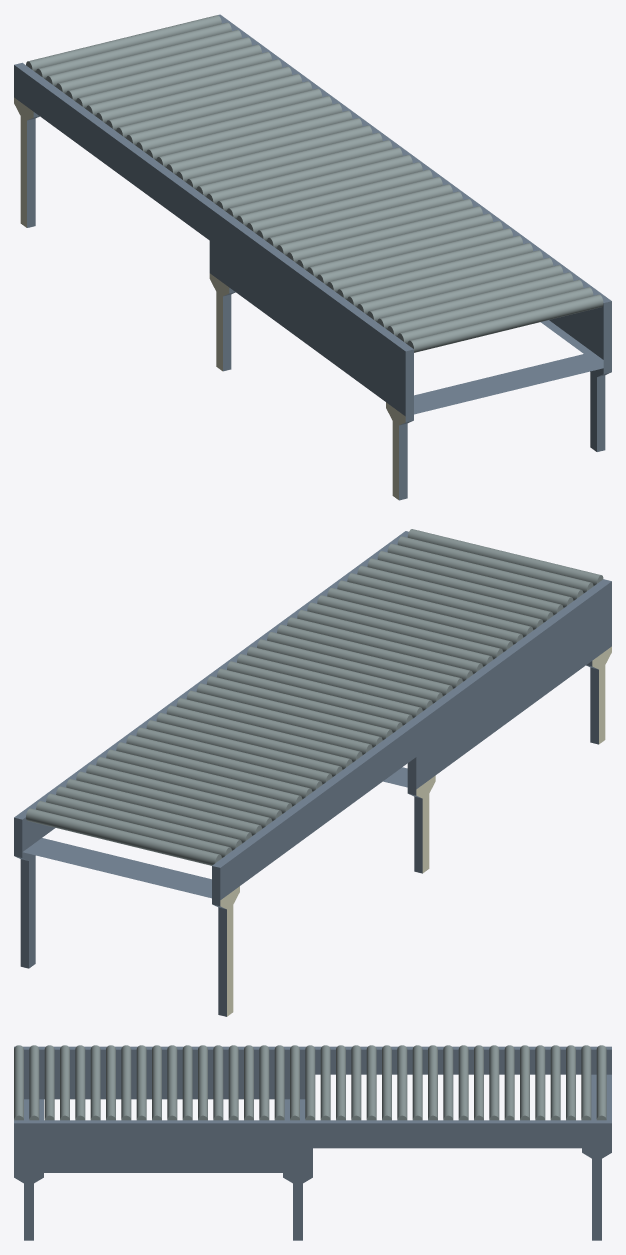
File: Roller_Conveyor2.obj
The picture shows the model from 3 angles, top to bottom: view 1: azimuth 30°, elevation 25°; view 2: azimuth 150°, elevation 25°; view 3: azimuth 270°, elevation 25°; orthographic projection. The views are drawn at different scales.
Visible parts, largest first — view 1: Mesh40 Model, Mesh1 Roller1 Model, Mesh25 Roller25 Model, Mesh36 Roller36 Model, Mesh4 Roller4 Model, Mesh5 Roller5 Model, Mesh7 Roller7 Model, Mesh10 Roller10 Model, Mesh13 Roller13 Model, Mesh23 Roller23 Model, Mesh27 Roller27 Model, Mesh29 Roller29 Model (+28 smaller); view 2: Mesh40 Model, Mesh39 Roller39 Model, Mesh6 Roller6 Model, Mesh16 Roller16 Model, Mesh22 Roller22 Model, Mesh1 Roller1 Model, Mesh4 Roller4 Model, Mesh24 Roller24 Model, Mesh27 Roller27 Model, Mesh28 Roller28 Model, Mesh29 Roller29 Model, Mesh31 Roller31 Model (+28 smaller); view 3: Mesh40 Model, Mesh2 Roller2 Model, Mesh3 Roller3 Model, Mesh5 Roller5 Model, Mesh6 Roller6 Model, Mesh8 Roller8 Model, Mesh9 Roller9 Model, Mesh11 Roller11 Model, Mesh12 Roller12 Model, Mesh14 Roller14 Model, Mesh15 Roller15 Model, Mesh17 Roller17 Model (+28 smaller).
Boxes of the visible parts, x1=… form: Mesh40 Model: x1=14, y1=14, x2=611, y2=500; Mesh1 Roller1 Model: x1=407, y1=294, x2=603, y2=352; Mesh25 Roller25 Model: x1=166, y1=118, x2=362, y2=175; Mesh36 Roller36 Model: x1=56, y1=37, x2=251, y2=94; Mesh4 Roller4 Model: x1=377, y1=272, x2=573, y2=329; Mesh5 Roller5 Model: x1=367, y1=265, x2=563, y2=322; Mesh7 Roller7 Model: x1=347, y1=250, x2=543, y2=307; Mesh10 Roller10 Model: x1=317, y1=228, x2=512, y2=285; Mesh13 Roller13 Model: x1=287, y1=206, x2=482, y2=263; Mesh23 Roller23 Model: x1=186, y1=132, x2=382, y2=189; Mesh27 Roller27 Model: x1=146, y1=103, x2=342, y2=160; Mesh29 Roller29 Model: x1=126, y1=88, x2=322, y2=145; Mesh40 Model: x1=14, y1=531, x2=611, y2=1016; Mesh39 Roller39 Model: x1=26, y1=808, x2=221, y2=865; Mesh6 Roller6 Model: x1=357, y1=565, x2=553, y2=622; Mesh16 Roller16 Model: x1=257, y1=639, x2=452, y2=696; Mesh22 Roller22 Model: x1=196, y1=683, x2=392, y2=740; Mesh1 Roller1 Model: x1=407, y1=529, x2=603, y2=586; Mesh4 Roller4 Model: x1=377, y1=551, x2=573, y2=608; Mesh24 Roller24 Model: x1=176, y1=698, x2=372, y2=755; Mesh27 Roller27 Model: x1=146, y1=720, x2=342, y2=777; Mesh28 Roller28 Model: x1=136, y1=727, x2=332, y2=784; Mesh29 Roller29 Model: x1=126, y1=735, x2=322, y2=791; Mesh31 Roller31 Model: x1=106, y1=749, x2=302, y2=806; Mesh40 Model: x1=14, y1=1046, x2=611, y2=1240; Mesh2 Roller2 Model: x1=29, y1=1045, x2=39, y2=1120; Mesh3 Roller3 Model: x1=44, y1=1045, x2=54, y2=1120; Mesh5 Roller5 Model: x1=75, y1=1045, x2=85, y2=1120; Mesh6 Roller6 Model: x1=90, y1=1045, x2=100, y2=1120; Mesh8 Roller8 Model: x1=121, y1=1045, x2=131, y2=1120; Mesh9 Roller9 Model: x1=136, y1=1045, x2=146, y2=1120; Mesh11 Roller11 Model: x1=167, y1=1045, x2=177, y2=1120; Mesh12 Roller12 Model: x1=182, y1=1045, x2=192, y2=1120; Mesh14 Roller14 Model: x1=213, y1=1045, x2=223, y2=1120; Mesh15 Roller15 Model: x1=228, y1=1045, x2=238, y2=1120; Mesh17 Roller17 Model: x1=259, y1=1045, x2=269, y2=1120.
Size of the model in its own units: 36.5 by 27 by 120.
